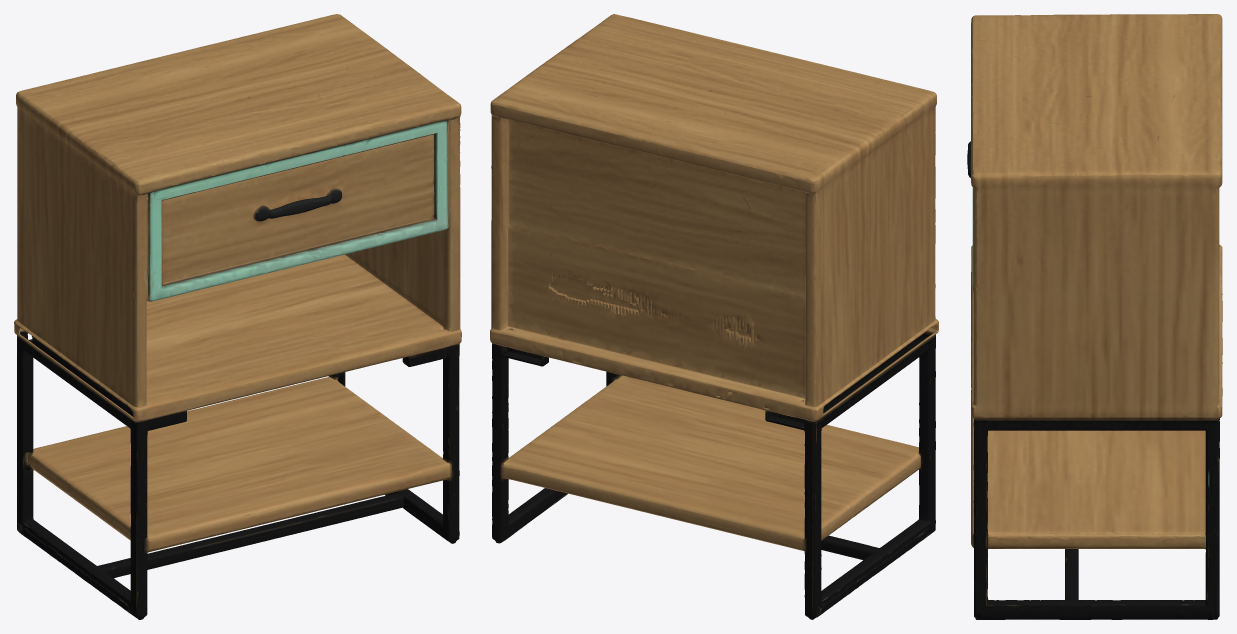
The model's file is item_690c37cf.glb.
3 views of the same model, side by side, from view 1: azimuth 30°, elevation 25°; view 2: azimuth 150°, elevation 25°; view 3: azimuth 270°, elevation 25° (orthographic).
Parts seen in each view (by area): view 1: world; view 2: world; view 3: world.
Boxes of the visible parts, box(x1,y1,x2,y2) form: world: box(14, 14, 461, 619); world: box(490, 14, 938, 619); world: box(967, 14, 1222, 619).
Bounding box in the file's own units: 0.4666 × 0.6 × 0.3094.
Materials: 1 (1 with a texture image).
